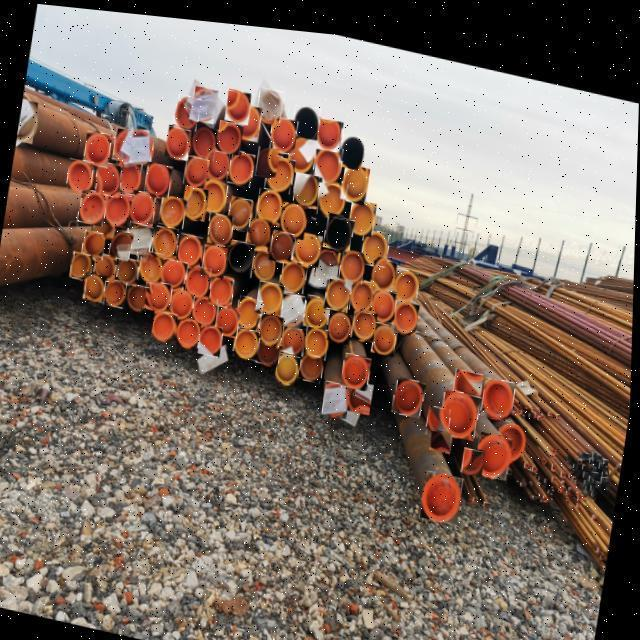pipe: (422, 460, 466, 515), (439, 378, 483, 430), (476, 421, 514, 468), (393, 367, 428, 409), (483, 367, 517, 410), (497, 410, 530, 452), (264, 148, 296, 187), (324, 206, 356, 244), (125, 124, 156, 163), (340, 156, 370, 196), (318, 172, 348, 212), (313, 138, 343, 178), (287, 129, 317, 169), (342, 345, 373, 383), (78, 186, 109, 224), (348, 190, 378, 229), (255, 81, 285, 120), (172, 89, 202, 127), (280, 195, 309, 233), (256, 182, 285, 220), (454, 358, 484, 394), (235, 289, 265, 325), (280, 252, 309, 289), (227, 144, 256, 181), (200, 173, 229, 210), (293, 225, 323, 260), (324, 373, 352, 410), (338, 126, 366, 163), (270, 111, 298, 148), (235, 98, 262, 136), (190, 81, 217, 119), (304, 288, 333, 323), (393, 291, 421, 327), (325, 269, 353, 305), (145, 158, 173, 194), (105, 189, 133, 225), (67, 156, 95, 192), (159, 190, 188, 224), (393, 259, 421, 294), (371, 249, 399, 284), (339, 241, 367, 276), (216, 115, 244, 150), (191, 121, 219, 156), (228, 234, 256, 269), (114, 157, 142, 192), (126, 219, 154, 254), (227, 191, 254, 227), (182, 181, 209, 217), (85, 129, 112, 165), (363, 222, 389, 259), (160, 253, 189, 286), (257, 275, 285, 309), (269, 223, 296, 258), (139, 246, 166, 281), (294, 98, 320, 134), (348, 372, 375, 406), (352, 300, 379, 334), (304, 319, 331, 353), (316, 111, 343, 145), (258, 307, 285, 341), (202, 239, 229, 273), (185, 260, 212, 294), (169, 283, 196, 317), (178, 228, 204, 263), (130, 188, 156, 223), (280, 317, 308, 349), (251, 243, 278, 276), (192, 290, 219, 323), (373, 313, 399, 347), (372, 281, 398, 315), (351, 271, 377, 305), (294, 167, 320, 201), (225, 84, 251, 118), (165, 122, 191, 156), (216, 299, 242, 333), (96, 160, 122, 194), (18, 99, 38, 143), (235, 322, 262, 354), (247, 212, 273, 245), (184, 151, 210, 184), (329, 303, 354, 337), (154, 222, 179, 256), (282, 287, 306, 322), (276, 346, 302, 378), (147, 277, 173, 309), (109, 226, 135, 258), (208, 208, 233, 241), (210, 270, 235, 303), (177, 313, 203, 344), (206, 144, 231, 176), (153, 306, 178, 338), (300, 346, 326, 376), (316, 241, 341, 272), (112, 125, 134, 160), (200, 320, 224, 352), (82, 228, 107, 258), (256, 140, 278, 173), (429, 396, 452, 427), (71, 249, 94, 279), (258, 333, 283, 360), (463, 437, 487, 465), (127, 280, 150, 308), (105, 277, 128, 305), (85, 271, 107, 300), (95, 251, 117, 279), (119, 255, 140, 282), (432, 420, 454, 443), (93, 216, 116, 237), (146, 278, 155, 290), (137, 252, 142, 268), (595, 459, 601, 466), (592, 471, 598, 478), (562, 458, 568, 465), (553, 452, 559, 458), (603, 463, 608, 470), (601, 449, 606, 456), (582, 440, 587, 447), (575, 451, 580, 458), (545, 483, 550, 490), (509, 456, 514, 463), (594, 439, 599, 445), (586, 459, 591, 465), (582, 470, 587, 476), (544, 446, 549, 452), (554, 464, 559, 470), (527, 451, 532, 457), (503, 460, 508, 466), (486, 490, 491, 496), (599, 441, 603, 448), (588, 440, 592, 447), (608, 470, 612, 476), (606, 454, 610, 460), (590, 462, 594, 468), (577, 457, 581, 463), (569, 443, 573, 449), (552, 441, 556, 447), (535, 454, 539, 460), (606, 446, 610, 451), (594, 454, 598, 459), (591, 444, 595, 449), (598, 468, 602, 473), (580, 446, 584, 451), (574, 463, 578, 468), (546, 466, 550, 471), (522, 470, 526, 475), (539, 403, 543, 408), (536, 401, 540, 406), (520, 394, 524, 399), (471, 488, 475, 493), (475, 487, 480, 491), (596, 476, 599, 482), (594, 501, 597, 507), (594, 484, 598, 488), (593, 478, 597, 482), (563, 472, 567, 476), (554, 437, 558, 441), (540, 464, 544, 468), (533, 396, 537, 400), (530, 402, 534, 406), (519, 398, 523, 402), (603, 541, 606, 546), (585, 451, 588, 456), (577, 466, 580, 471), (558, 401, 561, 406), (600, 534, 603, 538), (587, 473, 590, 477), (579, 484, 583, 487), (579, 490, 582, 494), (571, 474, 574, 478), (568, 478, 571, 482), (563, 468, 567, 471), (550, 477, 553, 481), (543, 486, 546, 490), (526, 470, 529, 474), (550, 399, 553, 403), (523, 399, 526, 403), (514, 399, 518, 402), (595, 444, 598, 448), (604, 458, 607, 462), (608, 463, 610, 468), (543, 402, 545, 407), (571, 462, 574, 465), (552, 481, 555, 484), (553, 474, 556, 477), (540, 470, 543, 473), (450, 439, 453, 442), (594, 450, 598, 452), (587, 467, 589, 471), (569, 484, 571, 488), (561, 475, 563, 479), (546, 470, 548, 474), (533, 483, 535, 487), (525, 467, 527, 471), (527, 392, 529, 396), (520, 390, 522, 394), (583, 481, 585, 484), (554, 477, 556, 480), (553, 486, 555, 489), (537, 460, 539, 463), (537, 484, 539, 487), (539, 395, 542, 397), (524, 403, 526, 406), (612, 518, 613, 523), (606, 553, 607, 557), (578, 473, 580, 475), (546, 474, 548, 476), (540, 482, 542, 484), (536, 463, 538, 465), (532, 470, 534, 472), (519, 470, 521, 472), (532, 455, 533, 459), (522, 391, 524, 393), (515, 391, 517, 393), (511, 399, 513, 401), (535, 404, 537, 406), (599, 538, 600, 541), (579, 480, 580, 482), (530, 457, 532, 458), (536, 484, 536, 485), (508, 462, 509, 462), (526, 398, 526, 401)
